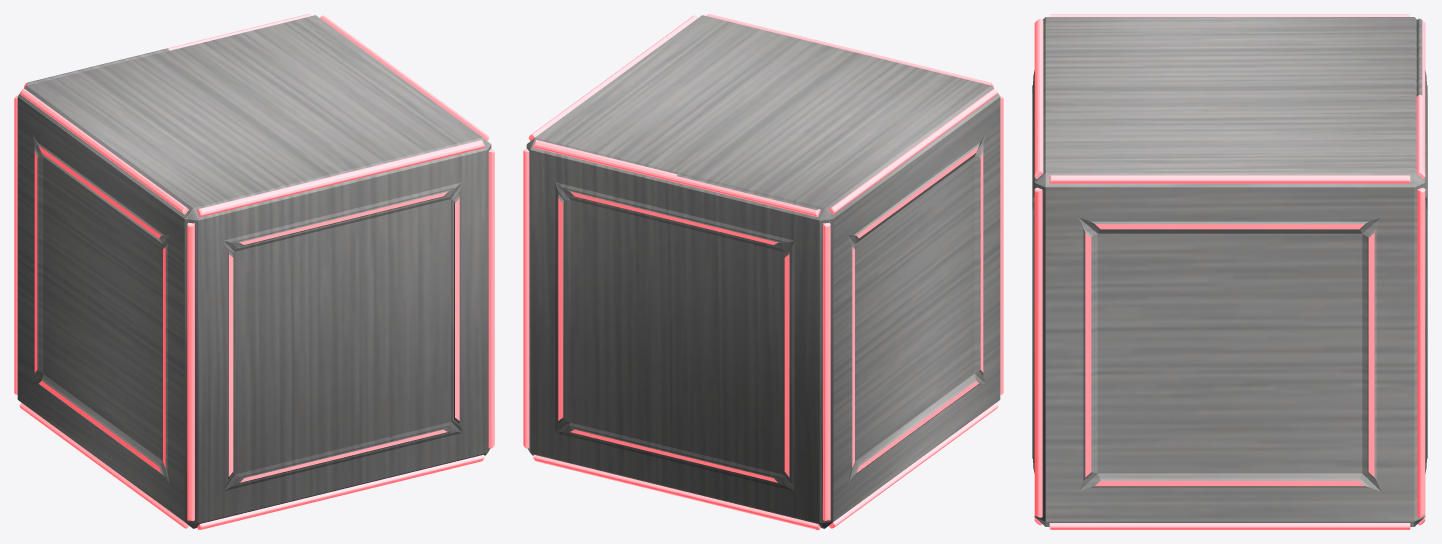
The model's file is Caja_Laberinto_02.fbx.
3 renders of one model, left to right at view 1: azimuth 30°, elevation 25°; view 2: azimuth 150°, elevation 25°; view 3: azimuth 270°, elevation 25°, orthographic. The views are drawn at different scales.
Visible parts, largest first — view 1: Cubo.001; view 2: Cubo.001; view 3: Cubo.001.
Boxes of the visible parts, x1,y1,x2,y2 form: Cubo.001: [14, 14, 494, 529]; Cubo.001: [523, 14, 1003, 529]; Cubo.001: [1032, 14, 1427, 529].
Bounding box in the file's own units: 201 × 200 × 203.
